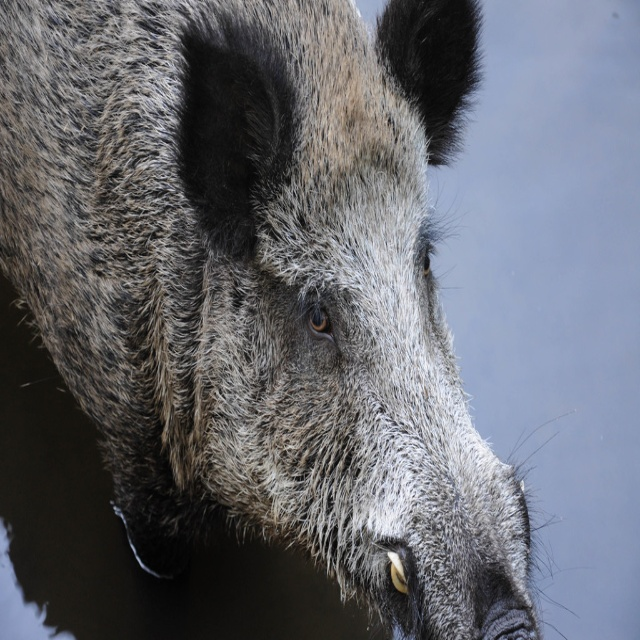Pig: (0, 0, 596, 640)
